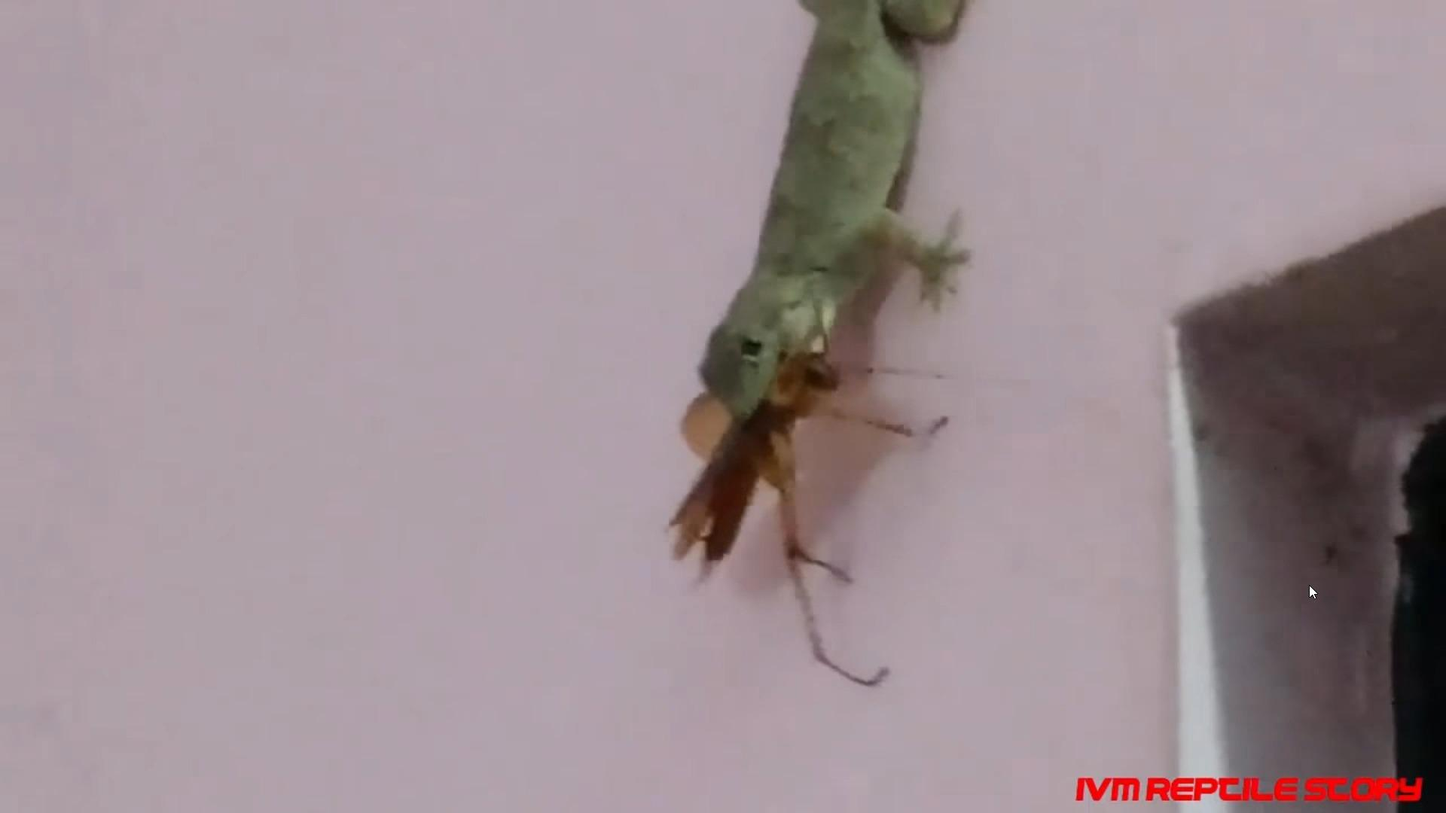cockroach: (671, 364, 854, 608)
lizard: (714, 43, 971, 414)
